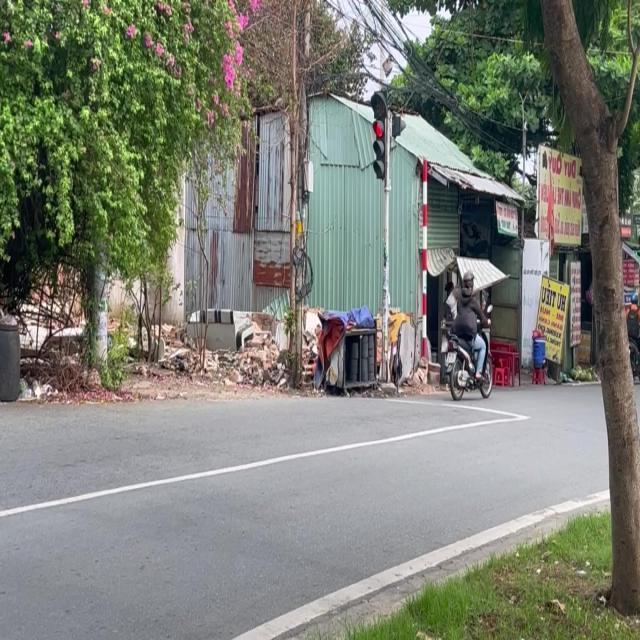red_light: (363, 91, 394, 184)
